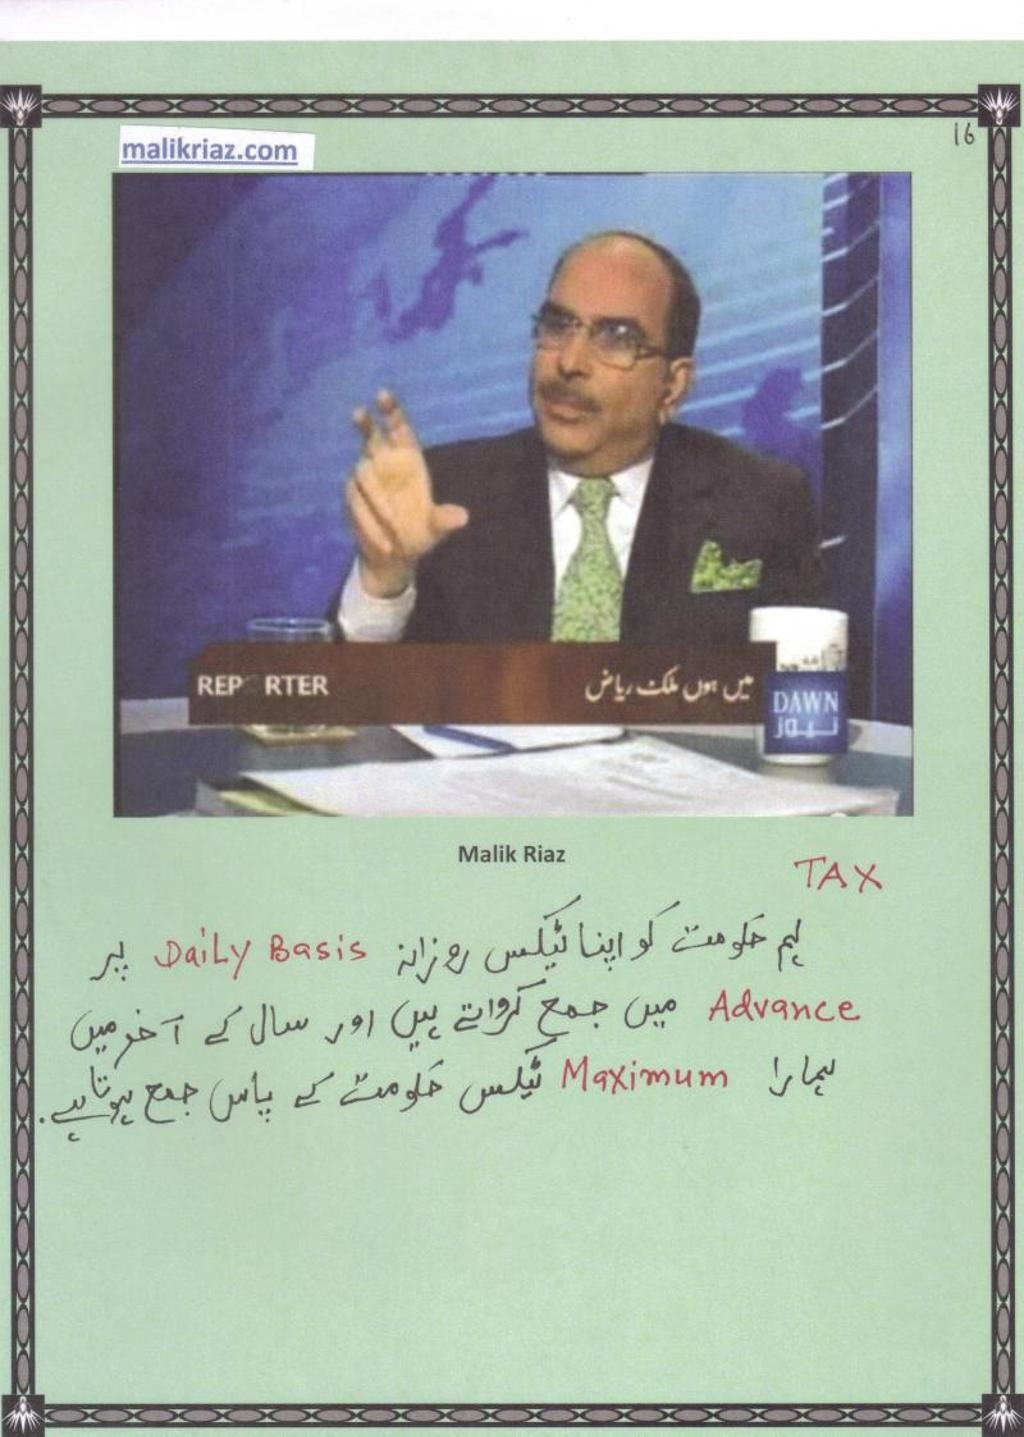face: (537, 256, 660, 450)
